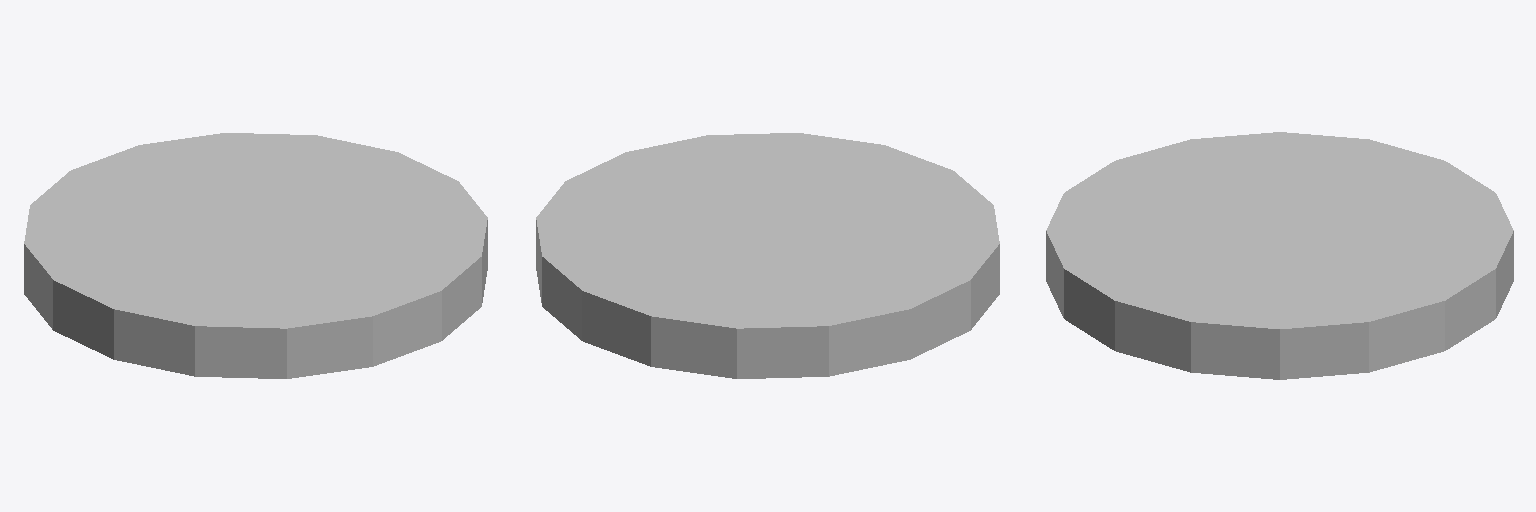
File: Coin_A__1.obj
The picture shows the model from 3 angles: view 1: azimuth 30°, elevation 25°; view 2: azimuth 150°, elevation 25°; view 3: azimuth 270°, elevation 25°; orthographic projection.
Parts seen in each view (by area): view 1: Cylinder1; view 2: Cylinder1; view 3: Cylinder1.
Part boxes in pixels (x1,y1,x2,y2): Cylinder1: (24, 133, 487, 378); Cylinder1: (536, 133, 999, 378); Cylinder1: (1046, 132, 1513, 379).
Size of the model in its own units: 2 by 0.2387 by 2.